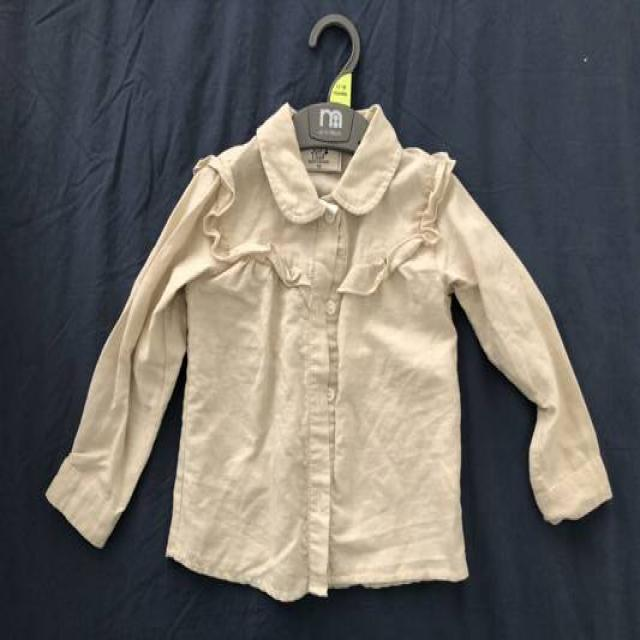Clothes -Biodegradable-: (48, 95, 612, 593)
